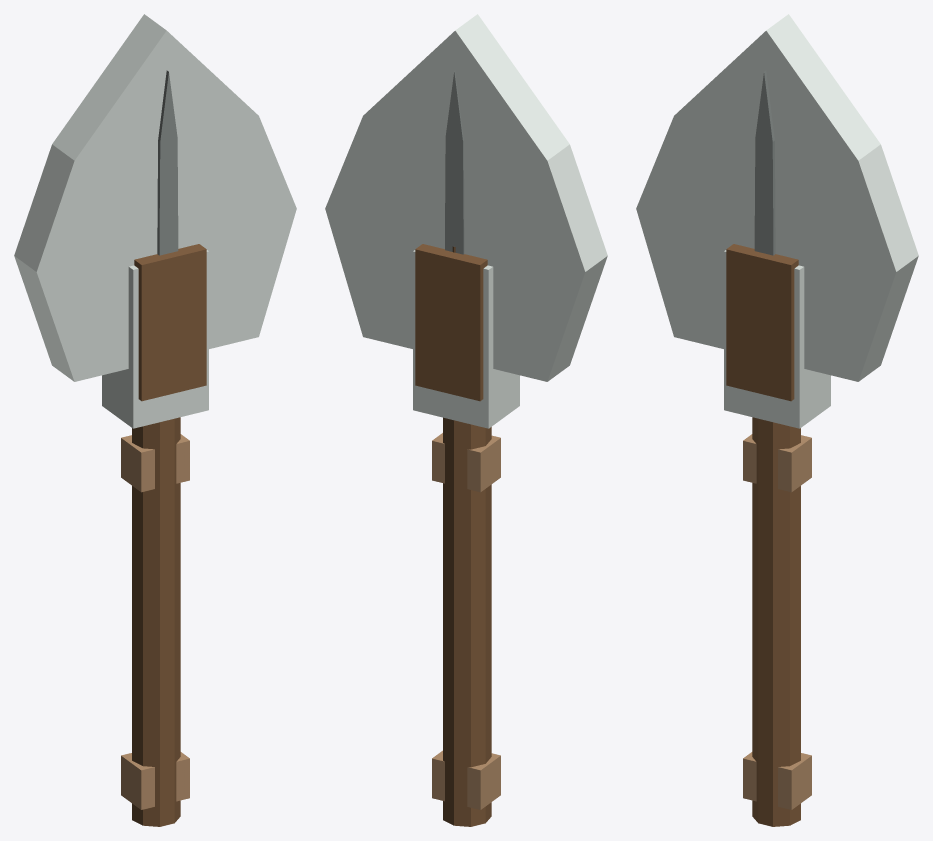
File: ironShovel.glb
3 views of the same model, side by side, from view 1: azimuth 30°, elevation 25°; view 2: azimuth 150°, elevation 25°; view 3: azimuth 330°, elevation 25° (orthographic).
Visible parts, largest first — view 1: ShovelBlade, Handle, ToolHeadSocket, ShovelSocket, ShovelRidge, GripWrapHigh, GripWrapLow; view 2: ShovelBlade, Handle, ToolHeadSocket, ShovelSocket, ShovelRidge, GripWrapHigh, GripWrapLow; view 3: ShovelBlade, Handle, ToolHeadSocket, ShovelSocket, ShovelRidge, GripWrapHigh, GripWrapLow.
Part boxes in pixels (x1,y1,x2,y2): ShovelBlade: [14, 14, 296, 381]; Handle: [132, 417, 180, 826]; ToolHeadSocket: [134, 244, 206, 401]; ShovelSocket: [102, 250, 208, 428]; ShovelRidge: [157, 70, 178, 255]; GripWrapHigh: [121, 434, 189, 492]; GripWrapLow: [121, 752, 189, 809]; ShovelBlade: [325, 14, 607, 381]; Handle: [443, 246, 491, 826]; ToolHeadSocket: [415, 244, 487, 401]; ShovelSocket: [413, 250, 519, 428]; ShovelRidge: [445, 70, 464, 254]; GripWrapHigh: [432, 433, 500, 492]; GripWrapLow: [432, 750, 500, 809]; ShovelBlade: [636, 14, 918, 381]; Handle: [752, 417, 800, 826]; ToolHeadSocket: [726, 244, 798, 401]; ShovelSocket: [724, 250, 830, 428]; ShovelRidge: [754, 70, 775, 255]; GripWrapHigh: [743, 434, 811, 492]; GripWrapLow: [743, 752, 811, 809].
Size of the model in its own units: 0.48 by 1.4 by 0.12.
